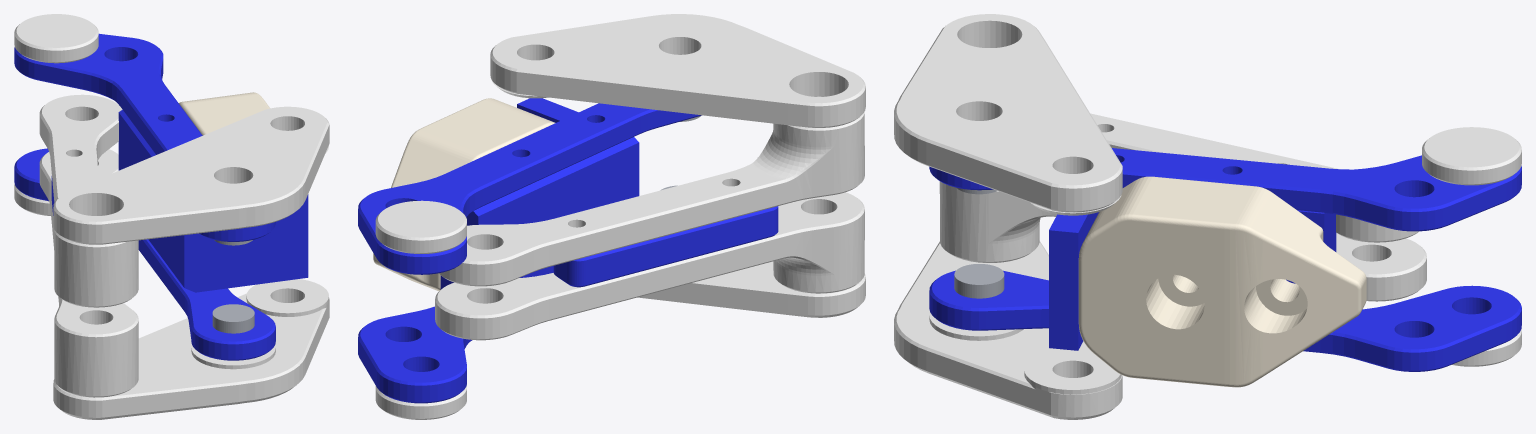
The model's file is finger_middle.dae.
The picture shows the model from 3 angles, left to right: view 1: azimuth 30°, elevation 25°; view 2: azimuth 150°, elevation 25°; view 3: azimuth 270°, elevation 25°; orthographic projection. The views are drawn at different scales.
Visible parts, largest first — view 1: dhand-finger-middle_-_plate3_fixed-3_plate3_support2-1, dhand-finger-middle_-_plate3_fixed-3_plate3_middle-1, dhand-finger-middle_-_plate3_fixed-3_plate3_rabber_fixed-1, dhand-finger-middle_-_plate3_fixed-3_plate3_support1-2; view 2: dhand-finger-middle_-_plate3_fixed-3_plate3_support2-1, dhand-finger-middle_-_plate3_fixed-3_plate3_middle-1, dhand-finger-middle_-_plate3_fixed-3_plate3_rabber_fixed-1; view 3: dhand-finger-middle_-_plate3_fixed-3_plate3_support2-1, dhand-finger-middle_-_plate3_fixed-3_plate3_rabber_fixed-1, dhand-finger-middle_-_plate3_fixed-3_plate3_middle-1, dhand-finger-middle_-_plate3_fixed-3_plate3_support1-2.
Part boxes in pixels (<box>): dhand-finger-middle_-_plate3_fixed-3_plate3_support2-1: <box>14,14,329,419</box>; dhand-finger-middle_-_plate3_fixed-3_plate3_middle-1: <box>14,33,308,360</box>; dhand-finger-middle_-_plate3_fixed-3_plate3_rabber_fixed-1: <box>178,92,269,135</box>; dhand-finger-middle_-_plate3_fixed-3_plate3_support1-2: <box>212,240,254,333</box>; dhand-finger-middle_-_plate3_fixed-3_plate3_support2-1: <box>375,14,865,419</box>; dhand-finger-middle_-_plate3_fixed-3_plate3_middle-1: <box>358,98,778,403</box>; dhand-finger-middle_-_plate3_fixed-3_plate3_rabber_fixed-1: <box>373,98,555,291</box>; dhand-finger-middle_-_plate3_fixed-3_plate3_support2-1: <box>894,14,1521,419</box>; dhand-finger-middle_-_plate3_fixed-3_plate3_rabber_fixed-1: <box>1078,176,1366,387</box>; dhand-finger-middle_-_plate3_fixed-3_plate3_middle-1: <box>929,148,1521,371</box>; dhand-finger-middle_-_plate3_fixed-3_plate3_support1-2: <box>954,187,1004,298</box>.
Bounding box in the file's own units: 0.0418 × 0.0628 × 0.026.
